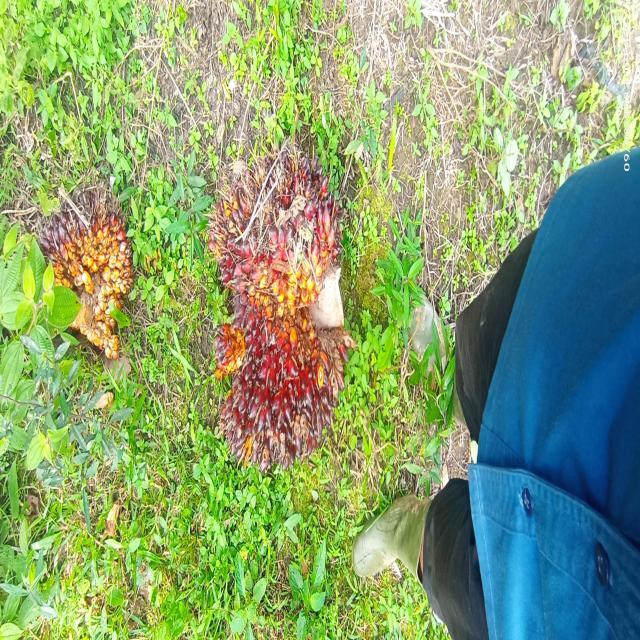fraksi 00: (16, 158, 130, 394)
fraksi 3: (185, 99, 402, 510)
